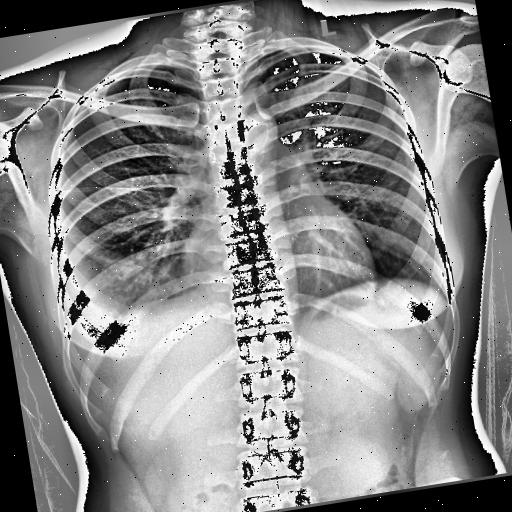10- Pleural effusion: (49, 218, 240, 368), (47, 225, 154, 340), (50, 266, 130, 335)
7- Lung Opacity: (70, 215, 202, 310)
